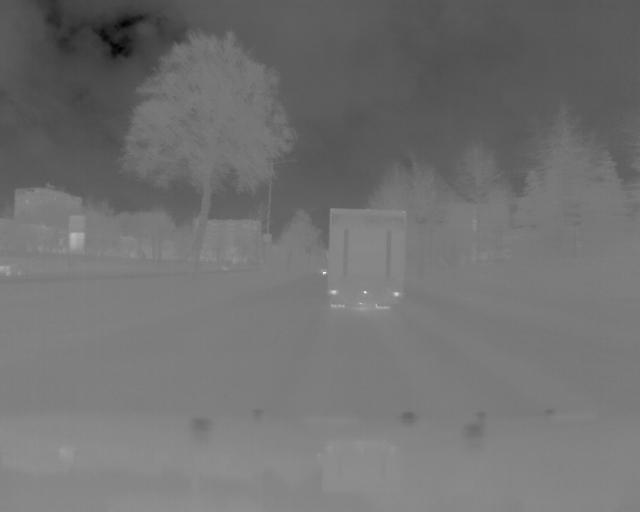car: (323, 203, 408, 318)
